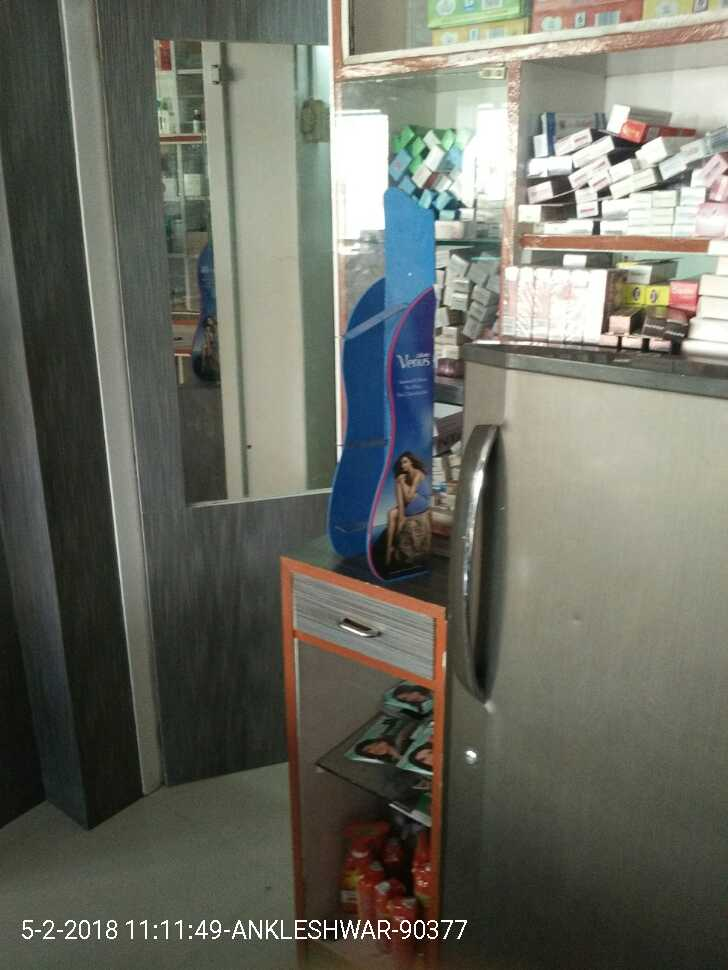reject: (287, 455, 414, 580)
